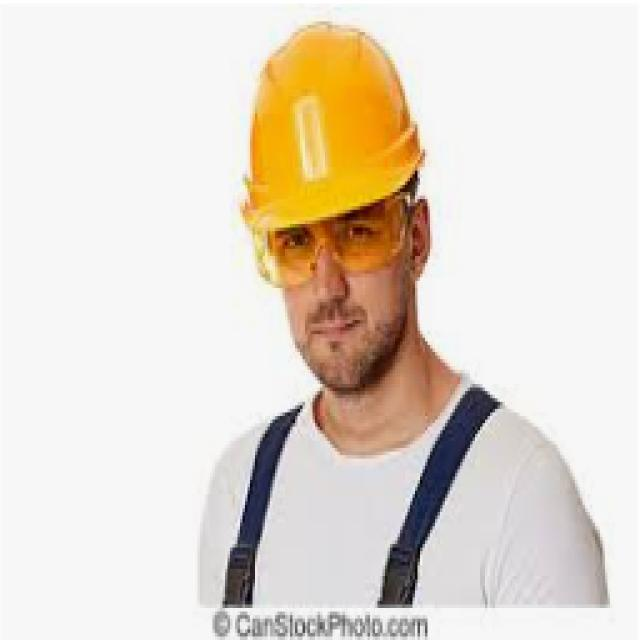glasses: (248, 207, 423, 279)
